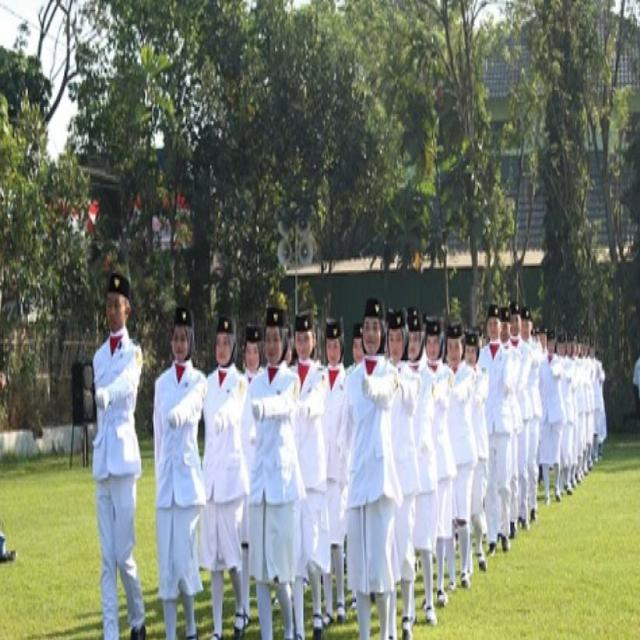peserta: (249, 283, 308, 638), (89, 257, 139, 640), (150, 294, 199, 640), (209, 309, 257, 640), (348, 299, 393, 640), (420, 307, 454, 612), (383, 304, 417, 597), (293, 301, 325, 609), (444, 318, 476, 614), (410, 297, 436, 630), (318, 308, 348, 596), (483, 275, 506, 593), (463, 322, 488, 572), (503, 288, 524, 552), (544, 322, 568, 526), (522, 286, 538, 542), (556, 332, 575, 522), (232, 309, 262, 420), (572, 334, 587, 498), (586, 332, 600, 473), (349, 311, 368, 382)
